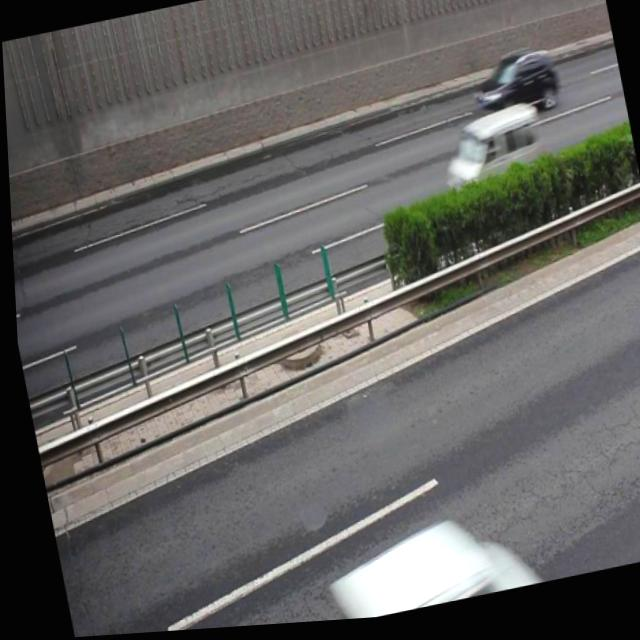car: (465, 48, 560, 131)
truck: (434, 107, 550, 214)
